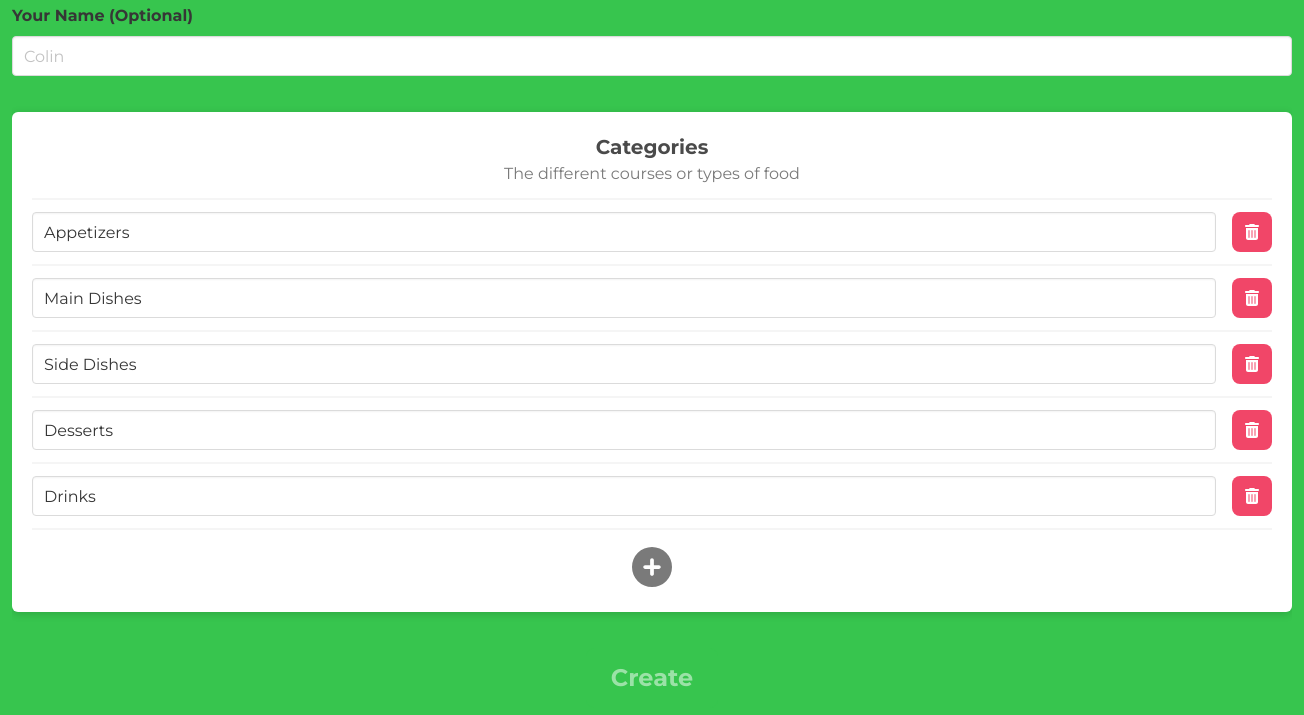
Test: New Page › should add a category on add button click
(page scrolled)
What coordinates should you click on to do the following:
click the button named "add"
I would click on:
 (652, 567)
Its box is [627,542,677,592].
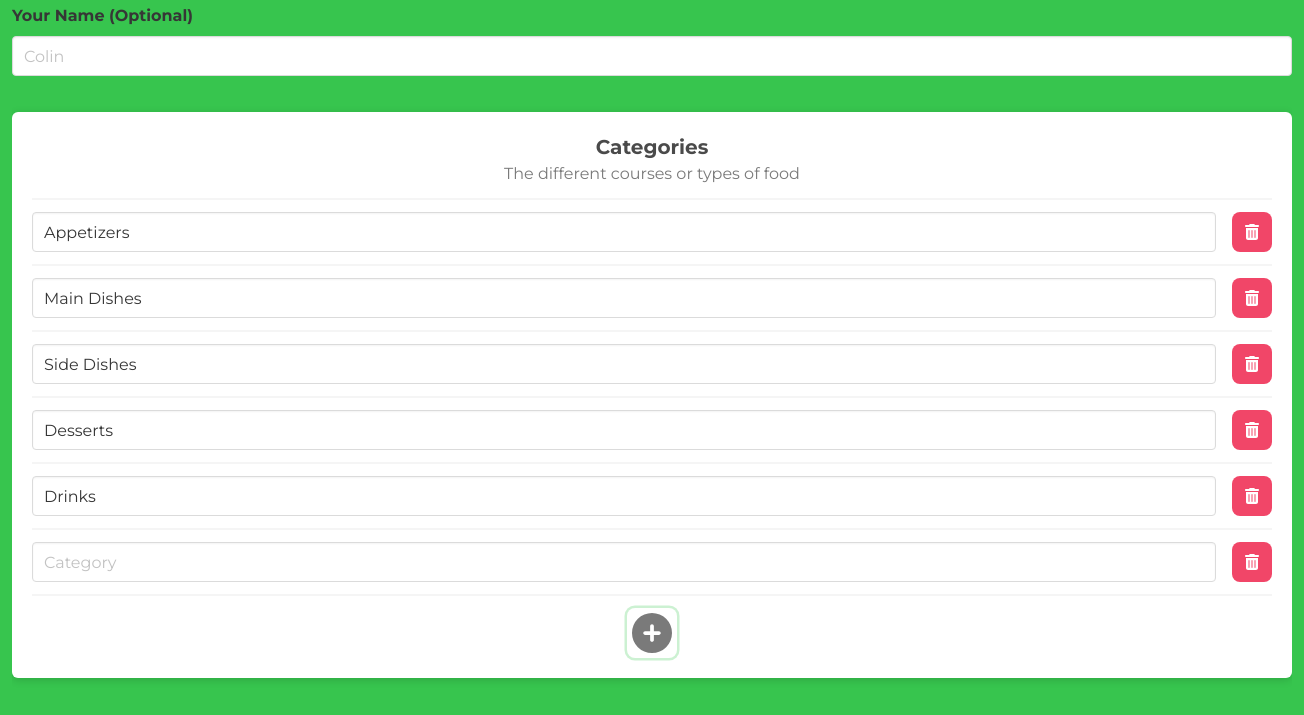
Expected: the 1st field with placeholder "Category" holds "Appetizers", [32,212,1216,252]
Result: the number of fields with placeholder "Category" is 6 at [32,212,1216,252]; [32,278,1216,318]; [32,344,1216,384]; [32,410,1216,450]; [32,476,1216,516]; [32,542,1216,582]
Result: the field with placeholder "Category" is empty at [32,542,1216,582]
